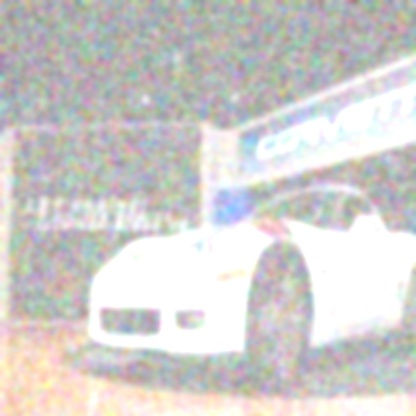Vehicle: (88, 186, 413, 394)
